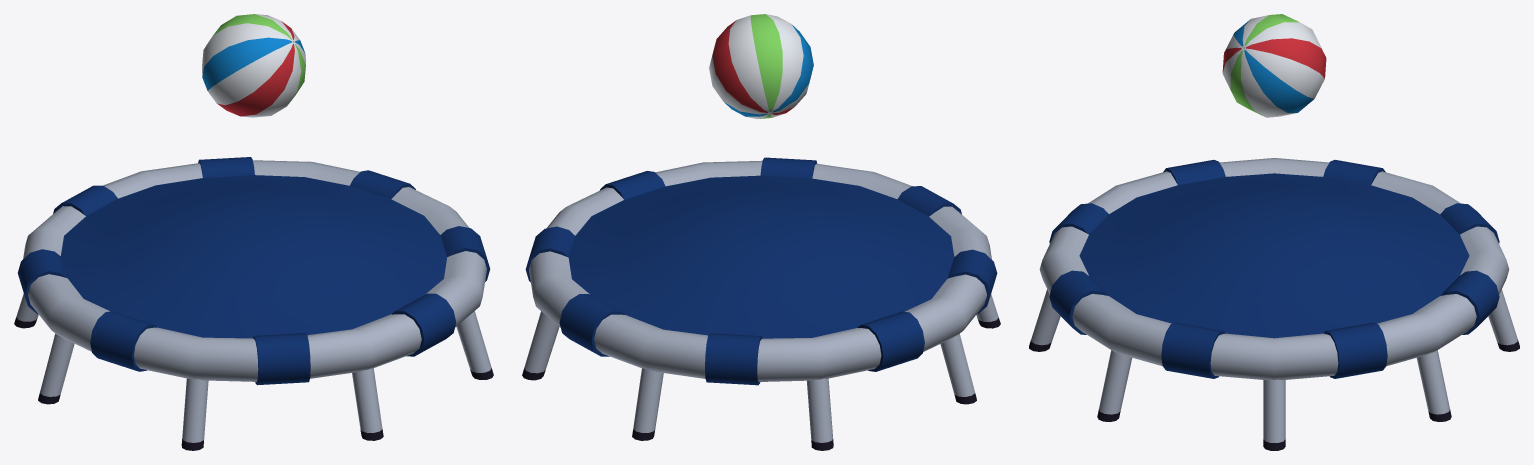
3 views of the same model, side by side, from view 1: azimuth 30°, elevation 25°; view 2: azimuth 150°, elevation 25°; view 3: azimuth 270°, elevation 25° (orthographic).
Visible parts, largest first — view 1: Trampoline, beachBall; view 2: Trampoline, beachBall; view 3: Trampoline, beachBall.
Part boxes in pixels (box(x1,y1,x2,y2)): Trampoline: box(14, 157, 493, 450); beachBall: box(202, 14, 305, 117); Trampoline: box(522, 157, 1000, 450); beachBall: box(709, 14, 813, 119); Trampoline: box(1029, 158, 1519, 450); beachBall: box(1222, 14, 1326, 117).
Bounding box in the file's own units: 2.76 × 2.03 × 2.76.
1 material, 1 textured.
